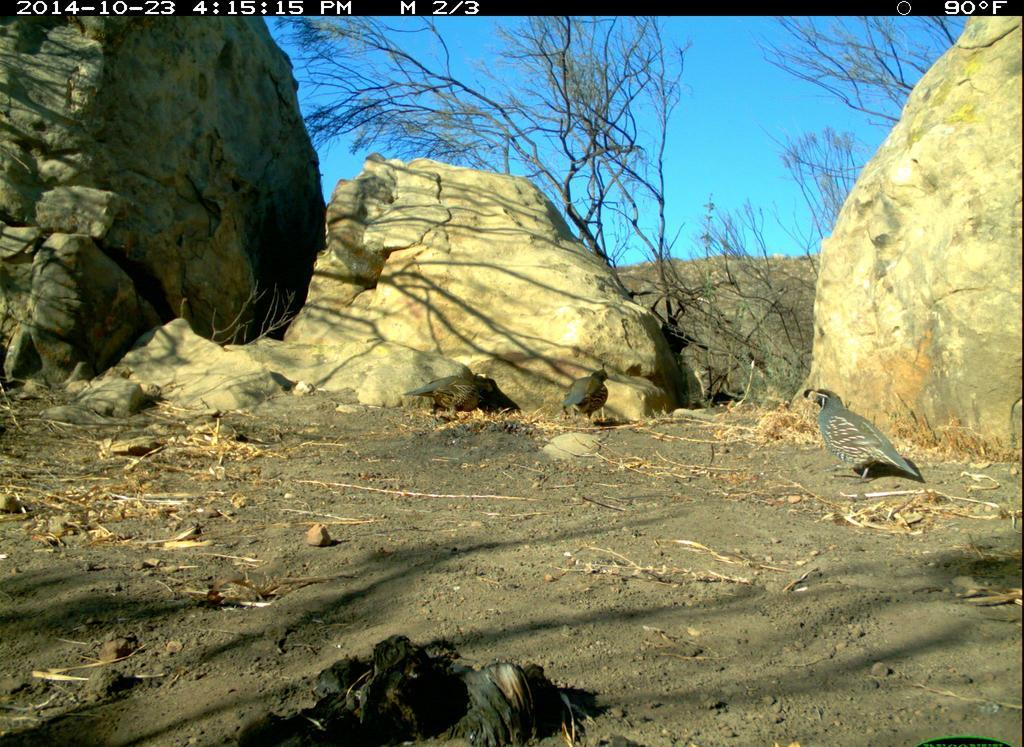bird: (794, 374, 936, 495), (552, 354, 633, 445), (385, 364, 500, 420)
